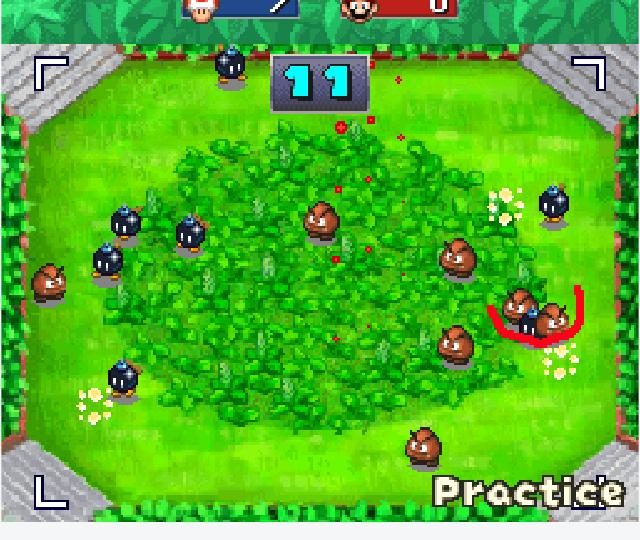bomb: (208, 41, 252, 97), (102, 355, 146, 408), (107, 201, 148, 252), (536, 182, 575, 235), (85, 242, 130, 285), (168, 212, 209, 258), (517, 306, 542, 348)
goomba: (299, 197, 346, 246), (27, 260, 74, 308), (401, 423, 447, 472), (435, 235, 478, 284), (432, 321, 478, 366), (537, 295, 575, 345), (500, 282, 539, 318)
